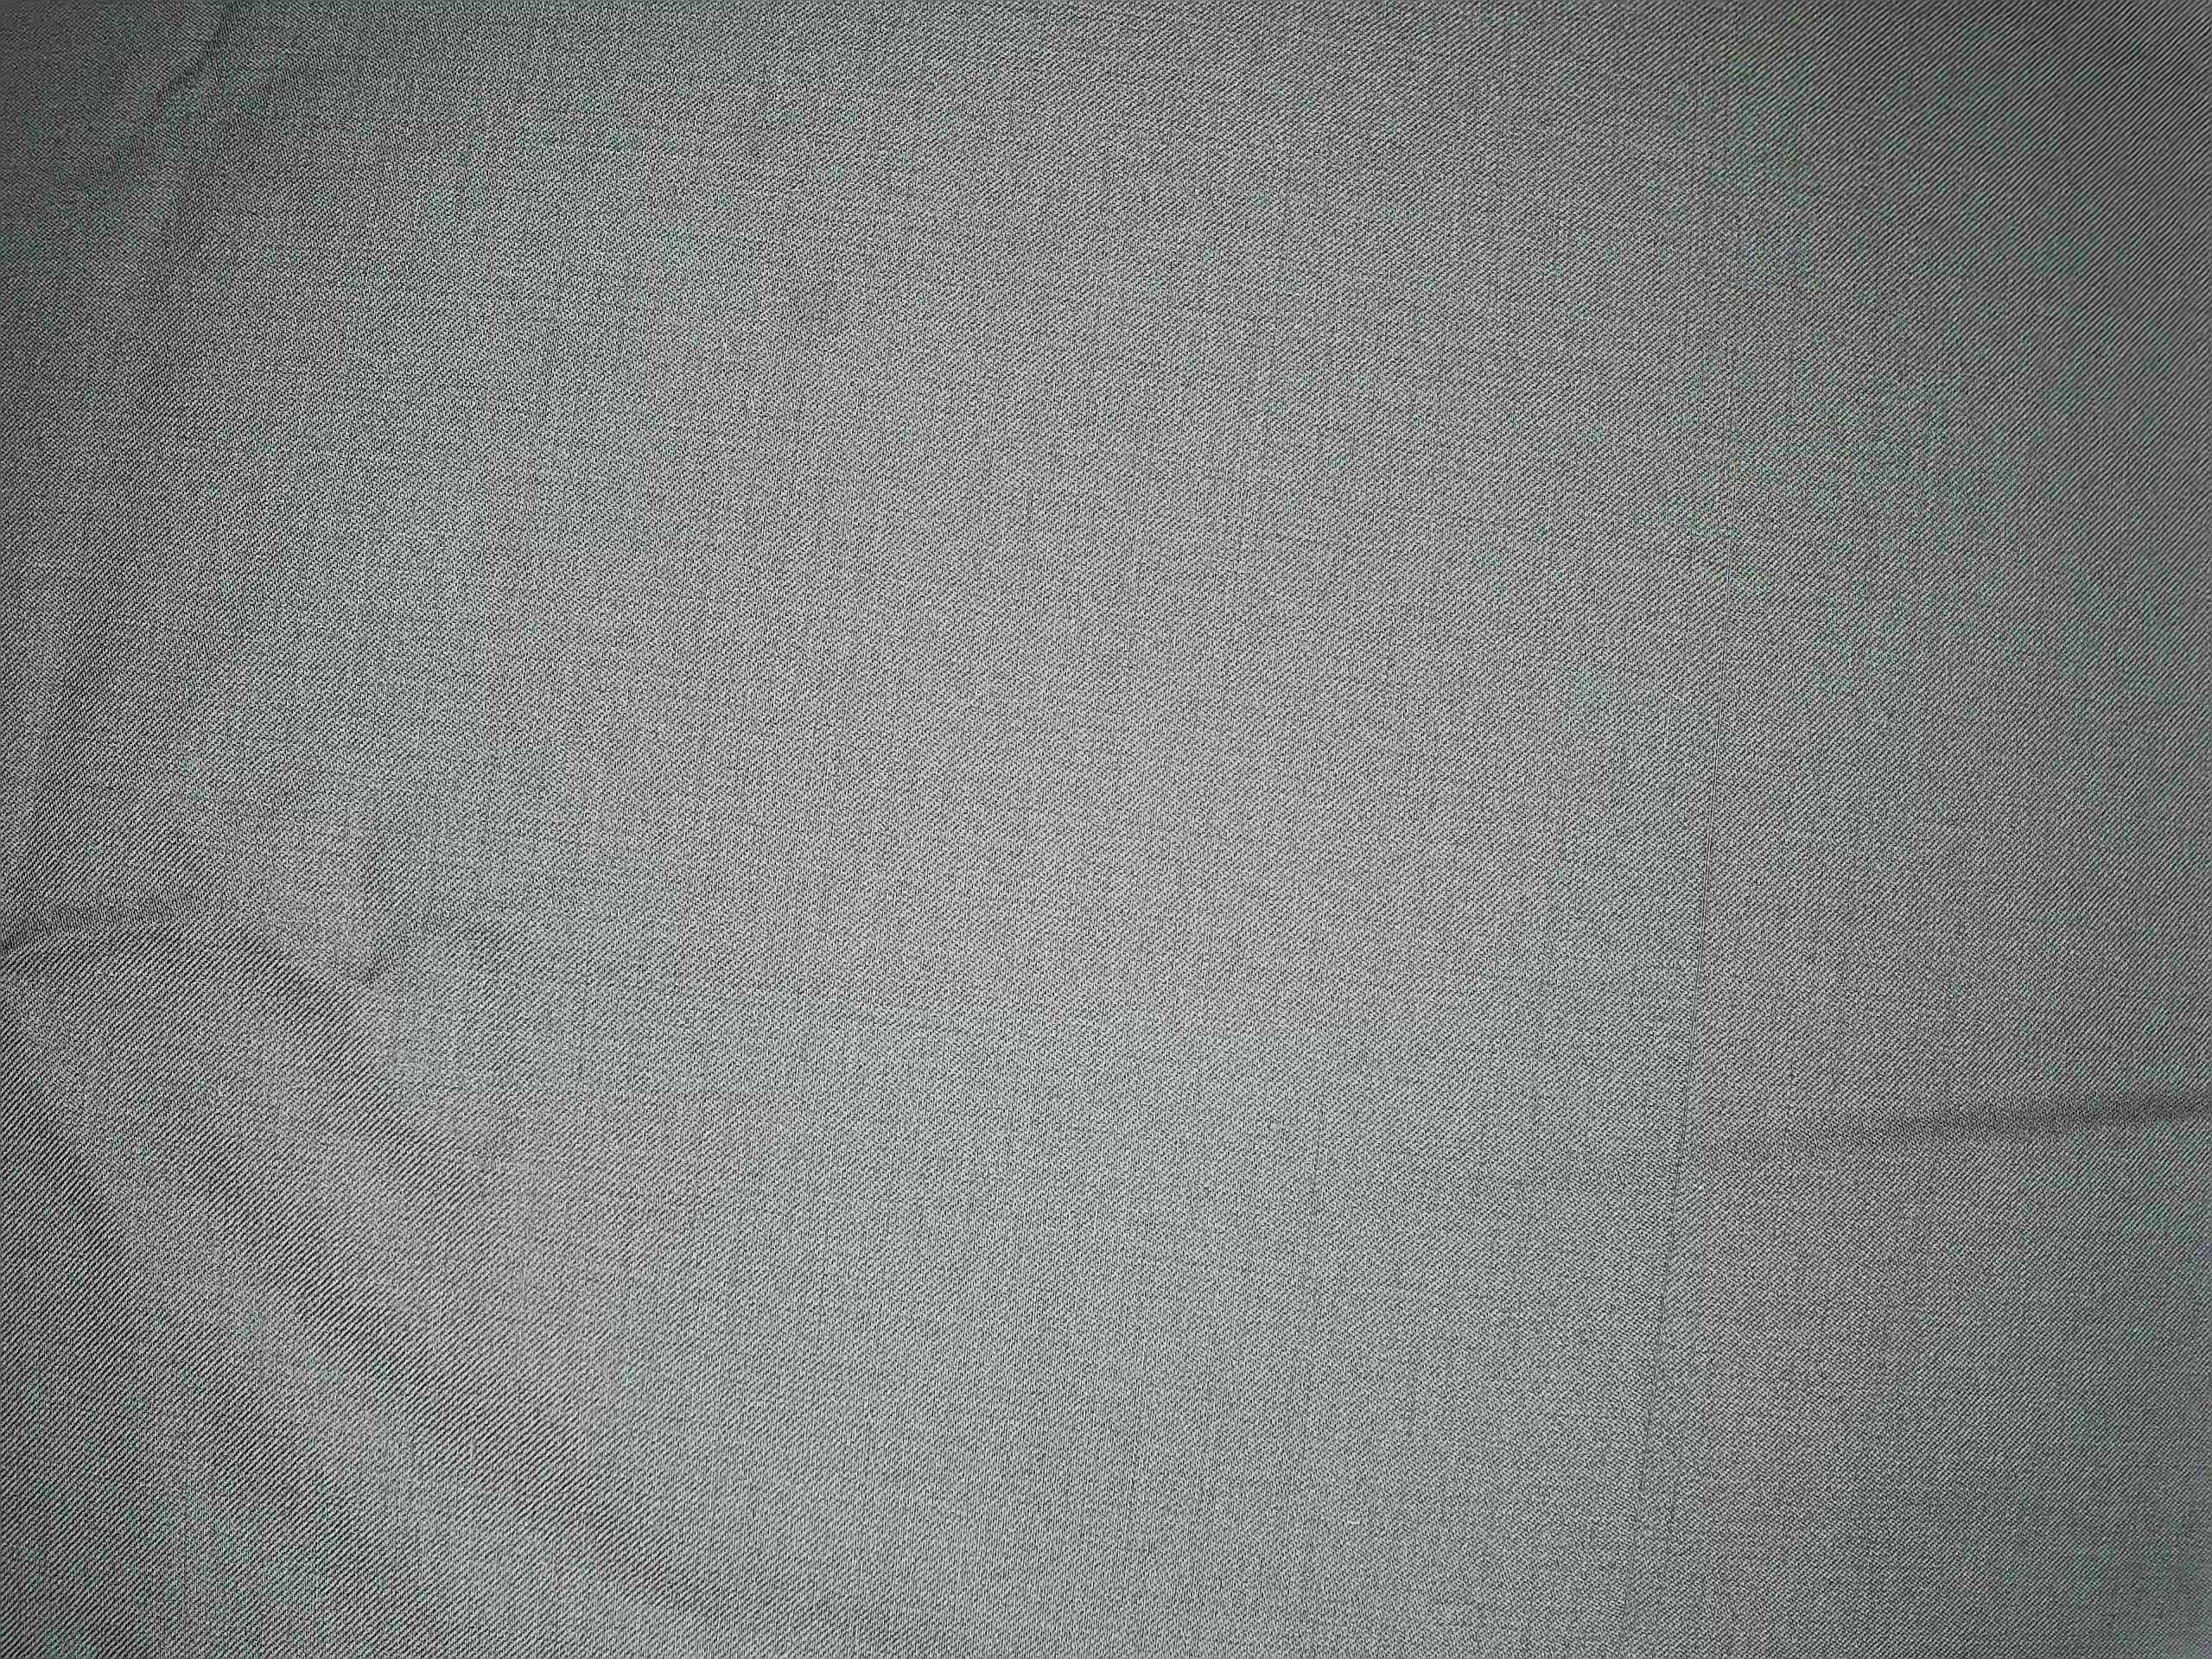hanging-warp: (1644, 704, 1731, 1354)
